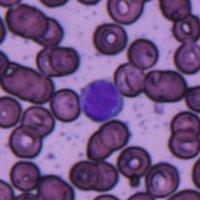L: (79, 78, 123, 122)
